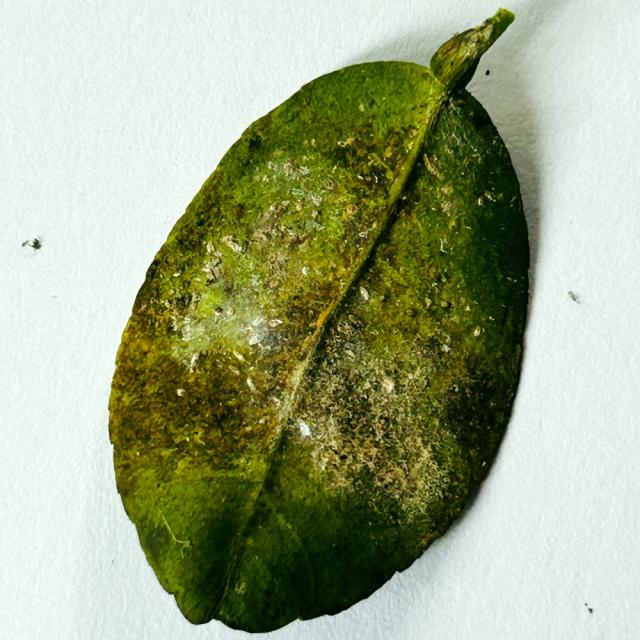Bacterial_Blight: (421, 178, 513, 312), (361, 225, 467, 337), (340, 274, 437, 378), (432, 340, 512, 462), (137, 256, 230, 351), (431, 121, 507, 217), (322, 377, 402, 466), (148, 449, 245, 522), (387, 432, 454, 509), (337, 118, 404, 178), (172, 384, 235, 437), (273, 283, 328, 335), (306, 197, 355, 248), (327, 317, 368, 359), (251, 205, 292, 245), (380, 253, 420, 292), (252, 322, 287, 358), (307, 275, 343, 309), (168, 419, 198, 447), (280, 162, 314, 186), (201, 252, 226, 284), (321, 446, 342, 467), (270, 202, 288, 219), (448, 215, 463, 233), (232, 203, 245, 219), (304, 218, 319, 231), (427, 264, 439, 280), (405, 126, 419, 139), (440, 199, 452, 214), (268, 277, 280, 290), (273, 149, 285, 158), (368, 98, 375, 107)
Lemon: (108, 10, 531, 636)
